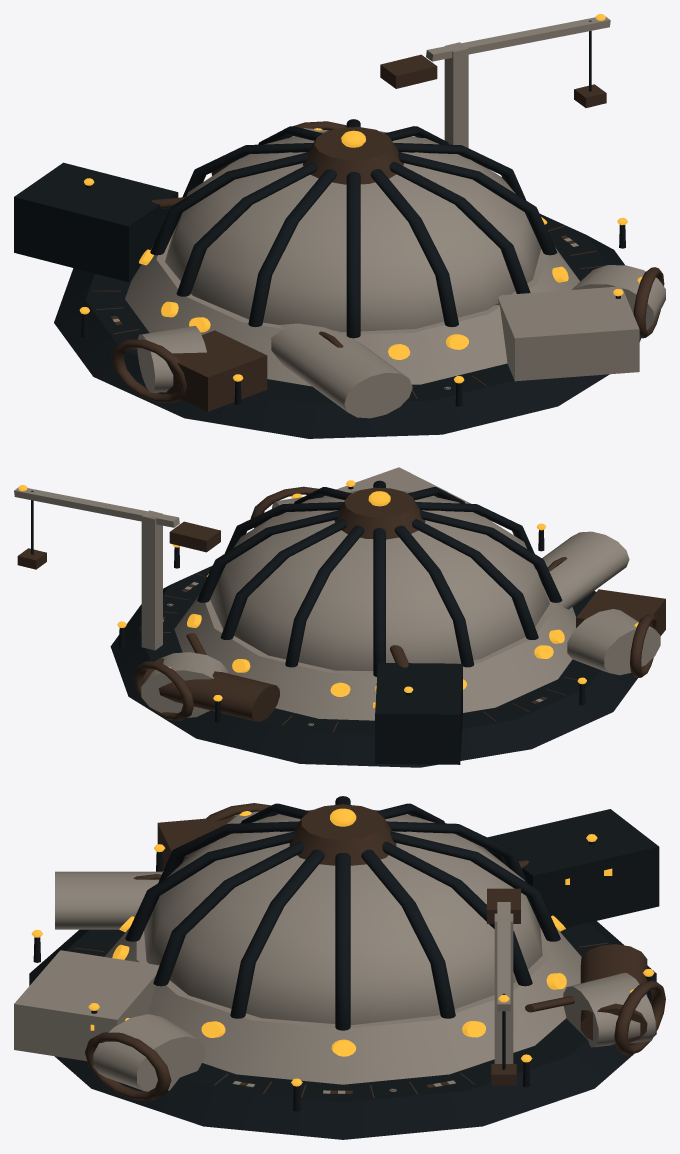
File: bastion-bathyarch.glb
The picture shows the model from 3 angles, top to bottom: view 1: azimuth 30°, elevation 25°; view 2: azimuth 150°, elevation 25°; view 3: azimuth 270°, elevation 25°; orthographic projection. The views are drawn at different scales.
Visible parts, largest first — view 1: dome, foundation, dome_skirt, module_refinery, module_quarters, ballast_a, module_store, dome_rib_3, dome_rib_4, dome_rib_2, dome_cap, dome_rib_1 (+9 smaller); view 2: dome, foundation, dome_skirt, module_refinery, ballast_a, dock_collar_3, ballast_b, dome_rib_5, dome_rib_4, dome_rib_6, crane_mast, dome_cap (+12 smaller); view 3: dome, foundation, dome_skirt, module_refinery, module_quarters, dock_collar_2, ballast_a, dome_rib_1, dome_rib_2, dome_cap, dome_rib_6, dock_collar_1 (+12 smaller).
Part boxes in pixels (x1,y1,x2,y2): dome: (165, 131, 541, 332); foundation: (54, 214, 640, 438); dome_skirt: (125, 236, 580, 386); module_refinery: (14, 162, 178, 282); module_quarters: (498, 286, 639, 381); ballast_a: (271, 323, 412, 418); module_store: (164, 330, 267, 411); dome_rib_3: (150, 152, 556, 255); dome_rib_4: (176, 143, 526, 296); dome_rib_2: (182, 143, 530, 293); dome_cap: (302, 127, 403, 184); dome_rib_1: (258, 126, 458, 326); dome: (210, 490, 549, 670); foundation: (110, 565, 637, 767); dome_skirt: (174, 593, 575, 720); module_refinery: (375, 663, 462, 764); ballast_a: (542, 531, 629, 609); dock_collar_3: (567, 609, 660, 675); ballast_b: (141, 658, 279, 721); dome_rib_5: (197, 510, 562, 602); dome_rib_4: (225, 502, 538, 639); dome_rib_6: (220, 502, 534, 639); crane_mast: (141, 510, 162, 650); dome_cap: (334, 487, 425, 539); dome: (144, 809, 542, 1025); foundation: (29, 921, 656, 1139); dome_skirt: (104, 927, 581, 1084); module_refinery: (484, 809, 659, 927); module_quarters: (14, 950, 159, 1060); dock_collar_2: (93, 1014, 204, 1091); ballast_a: (55, 871, 162, 929); dome_rib_1: (125, 831, 560, 941); dome_rib_2: (153, 821, 527, 986); dome_cap: (289, 804, 396, 865); dome_rib_6: (158, 821, 532, 986); dock_collar_1: (563, 973, 655, 1047).
Bounding box in the file's own units: 439 × 128 × 389.
